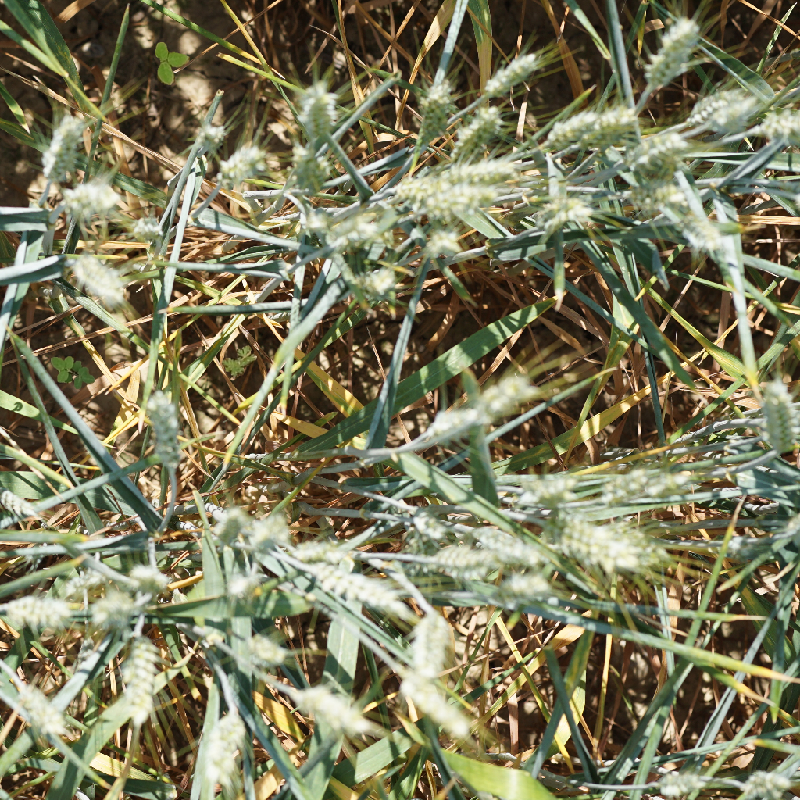spikelet: (369, 667, 481, 738), (557, 514, 673, 580), (471, 34, 569, 107), (282, 671, 382, 739), (633, 10, 705, 101), (311, 552, 404, 611), (400, 604, 467, 685), (199, 695, 251, 797), (467, 519, 559, 574), (117, 617, 160, 734), (140, 379, 191, 475), (63, 244, 128, 317), (399, 70, 455, 153), (3, 668, 67, 739), (475, 367, 550, 425), (752, 372, 800, 461), (39, 114, 99, 185), (478, 571, 564, 619), (442, 98, 510, 156), (1, 589, 78, 639), (394, 174, 495, 212), (52, 180, 132, 226), (671, 201, 734, 259), (575, 96, 641, 149), (679, 78, 742, 133), (426, 391, 489, 446), (428, 532, 495, 583), (627, 139, 691, 192), (507, 466, 582, 510), (434, 157, 517, 195), (232, 624, 294, 674), (647, 753, 712, 799), (298, 86, 346, 147), (85, 589, 148, 635), (428, 228, 489, 274), (549, 102, 600, 157), (535, 192, 592, 239), (312, 209, 382, 247), (290, 148, 346, 195), (216, 137, 268, 187), (746, 98, 800, 146), (125, 552, 179, 600), (57, 557, 112, 603), (343, 256, 405, 295), (739, 761, 796, 800), (248, 505, 296, 548), (603, 468, 653, 509), (215, 571, 271, 607), (404, 493, 446, 537), (1, 478, 43, 520), (215, 504, 251, 552), (128, 207, 172, 245), (195, 120, 229, 153)
weed: (155, 42, 190, 85), (51, 356, 95, 389), (222, 345, 257, 379)
